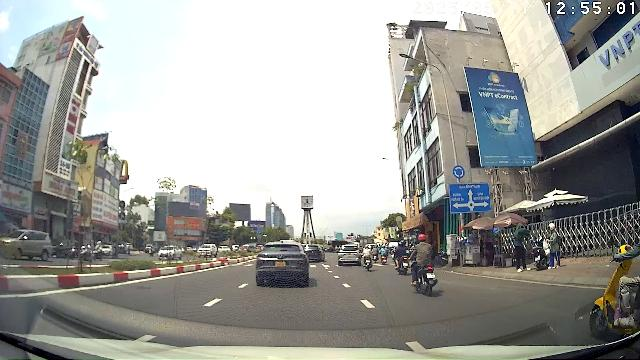303-noi-giao-nhau-chay-theo-vong-xuyen: (452, 165, 466, 179)
